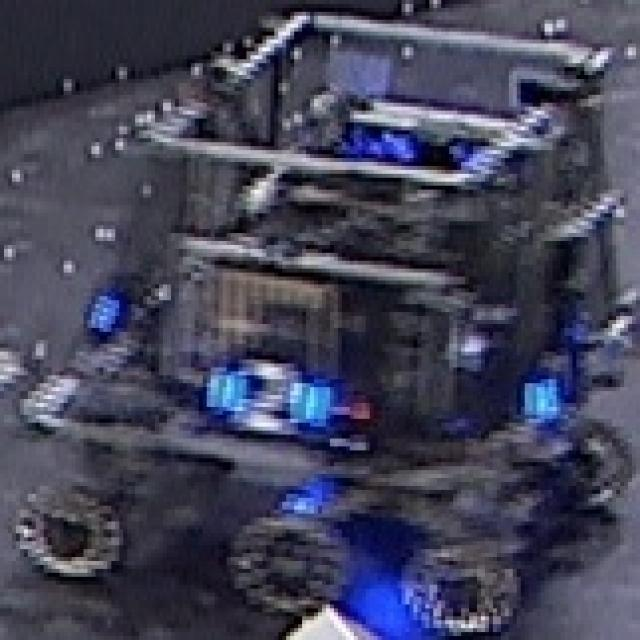B2: (195, 344, 342, 438)
